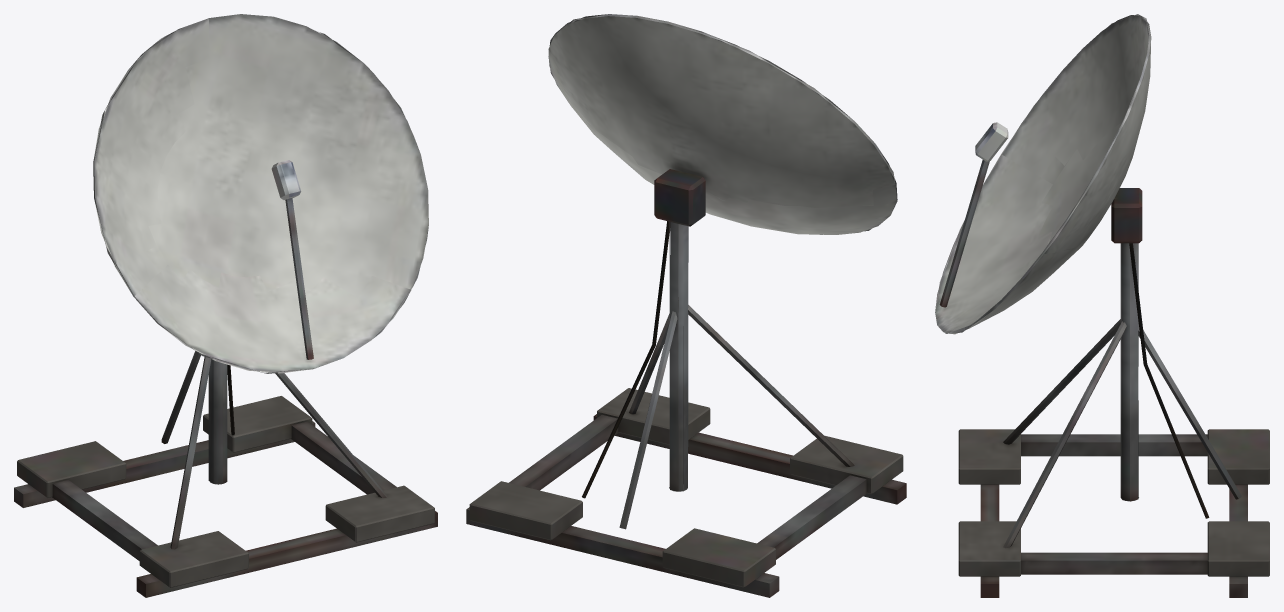
File: satellite_dish_lod1.glb
3 renders of one model, left to right at view 1: azimuth 30°, elevation 25°; view 2: azimuth 150°, elevation 25°; view 3: azimuth 270°, elevation 25°, orthographic. The views are drawn at different scales.
Visible parts, largest first — view 1: satellite_dish; view 2: satellite_dish; view 3: satellite_dish.
Boxes of the visible parts, left/top/right/bottom form: satellite_dish: left=14, top=14, right=437, bottom=597; satellite_dish: left=466, top=14, right=906, bottom=597; satellite_dish: left=935, top=14, right=1269, bottom=597.
Size of what is drawn, in the model's own units: 1.2 by 1.74 by 1.08.
Materials: 1 (1 with a texture image).
